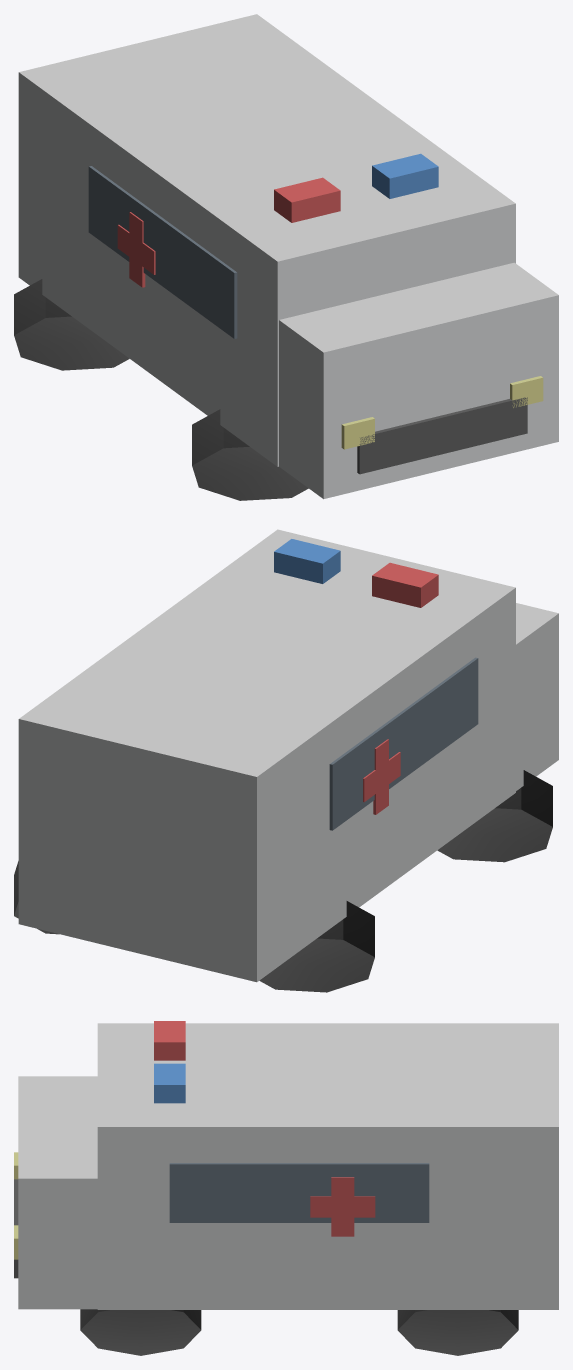
File: Ambulance.glb
3 views of the same model, one above another, from view 1: azimuth 30°, elevation 25°; view 2: azimuth 150°, elevation 25°; view 3: azimuth 270°, elevation 25° (orthographic). The views are drawn at different scales.
Bounding box in the file's own units: 2.48 × 1.74 × 3.78.
